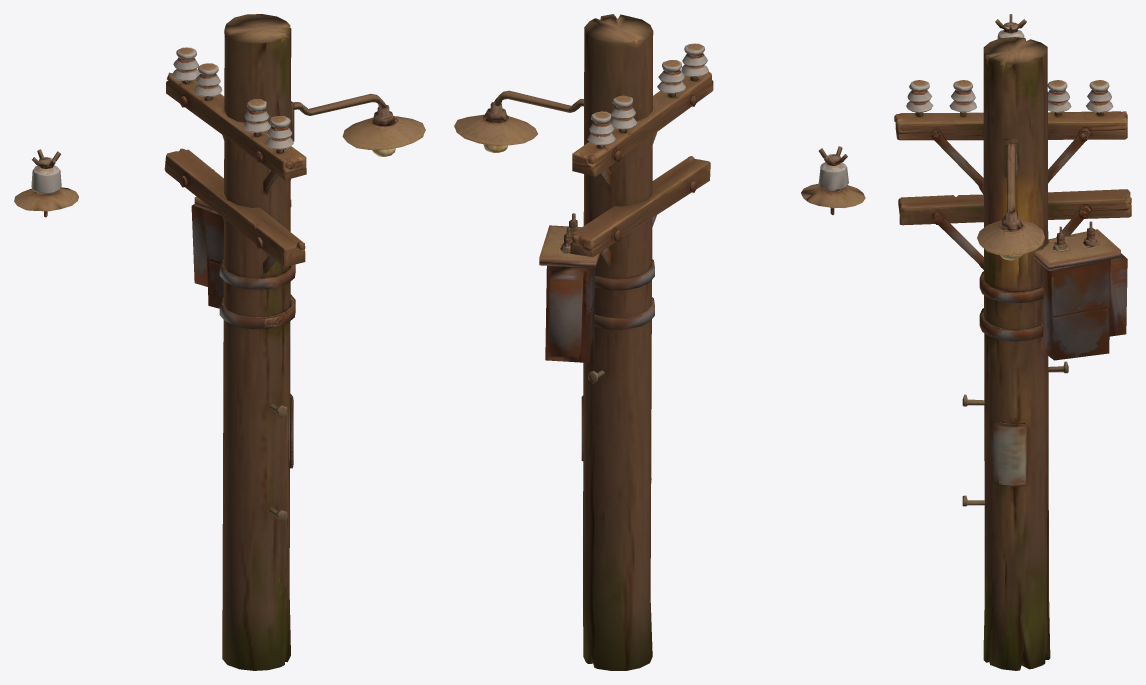
Rendered from japanese_utility_pole.glb.
3 views of the same model, side by side, from view 1: azimuth 30°, elevation 25°; view 2: azimuth 150°, elevation 25°; view 3: azimuth 270°, elevation 25° (orthographic). The views are drawn at different scales.
Parts seen in each view (by area): view 1: tripo_node_c6720866-15be-42e7-a23b-b6f46408637f; view 2: tripo_node_c6720866-15be-42e7-a23b-b6f46408637f; view 3: tripo_node_c6720866-15be-42e7-a23b-b6f46408637f.
Boxes of the visible parts, box(x1,y1,x2,y2) form: tripo_node_c6720866-15be-42e7-a23b-b6f46408637f: box(14, 14, 425, 670); tripo_node_c6720866-15be-42e7-a23b-b6f46408637f: box(454, 14, 865, 670); tripo_node_c6720866-15be-42e7-a23b-b6f46408637f: box(894, 14, 1131, 670).
Size of the model in its own units: 0.6738 by 0.998 by 0.3535.
Materials: 1 (1 with a texture image).
